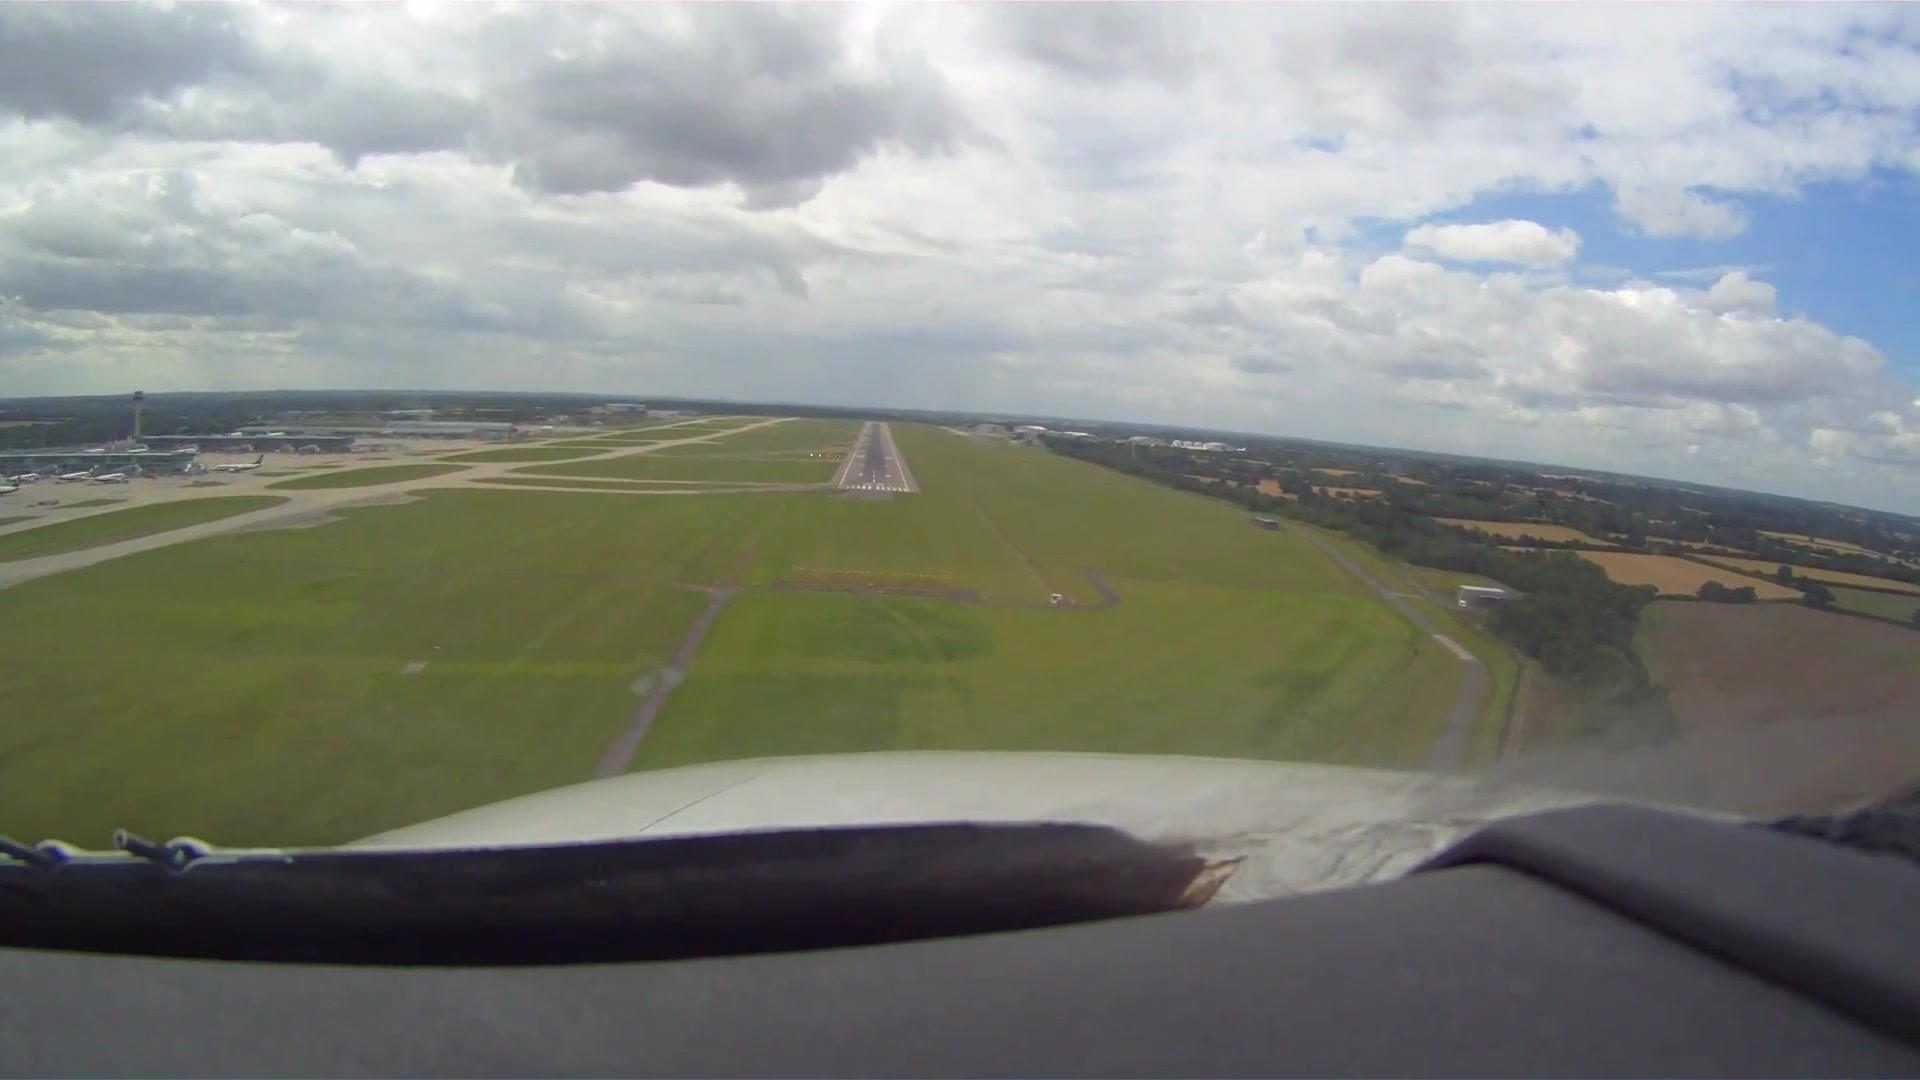entrance: (843, 483, 909, 492)
runway: (828, 418, 920, 493)
